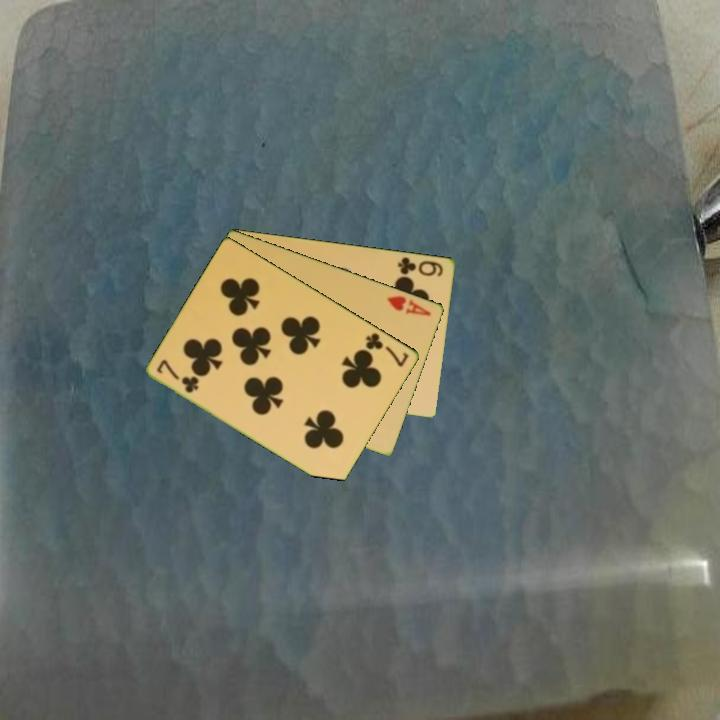6c: (395, 253, 446, 279)
7c: (362, 329, 412, 370), (153, 356, 202, 396)
Ah: (383, 292, 434, 319)
